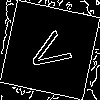V: (25, 25, 81, 77)
